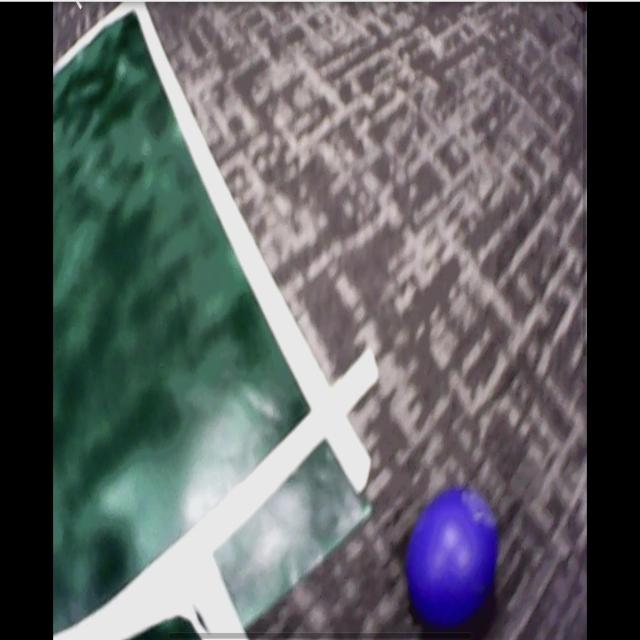ball: (408, 486, 500, 632)
